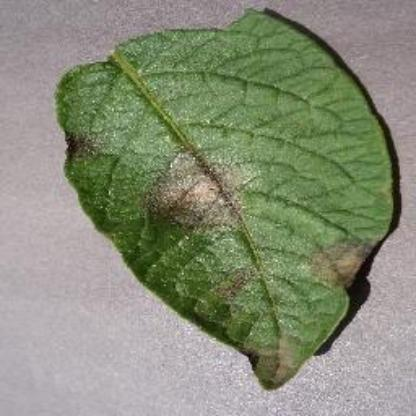Late-Blight: (58, 13, 406, 394)
